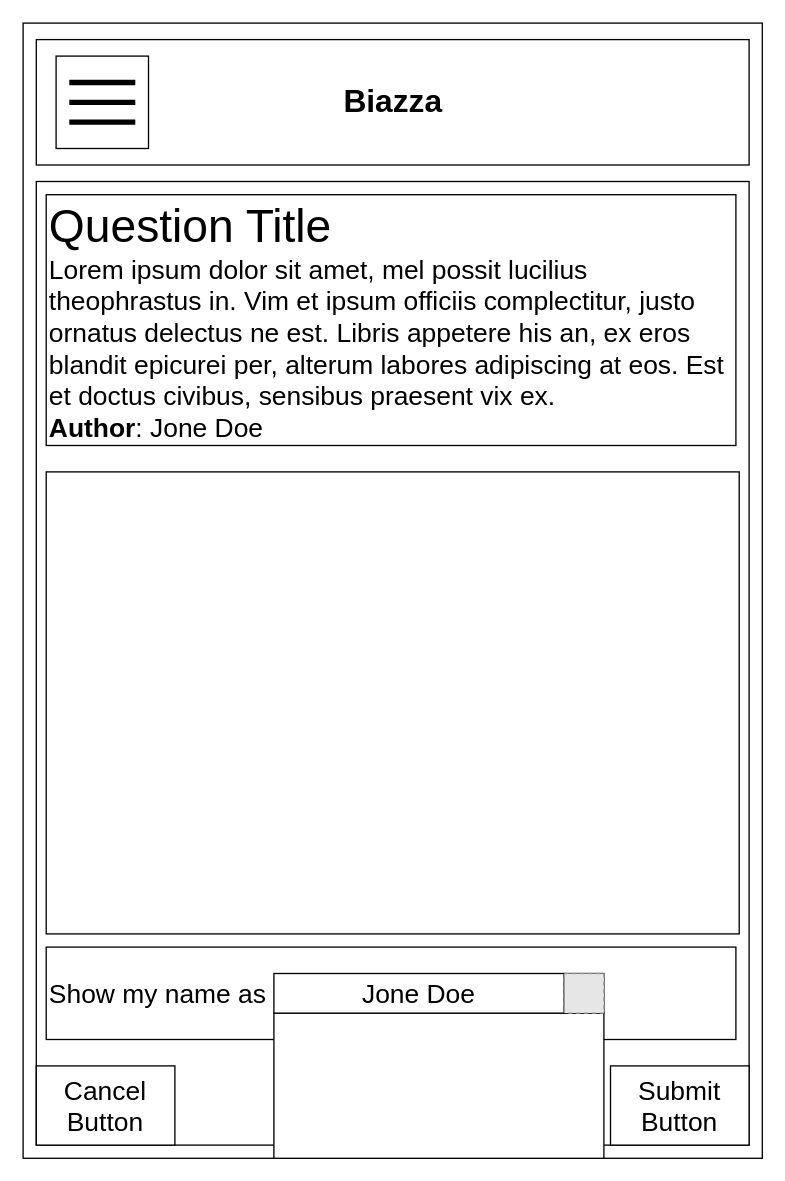
Some shapes in this 785 by 1181 pixel diagram are drawn without their labels. Grey dashed boxes stand in for pictures. The centre of each missing label's shape, as x and y in pixels:
"Jone Doe Anonymous to Classmates Anonymous to Everyone" belongs at point (438, 1085).
"My response" belongs at point (392, 702).
